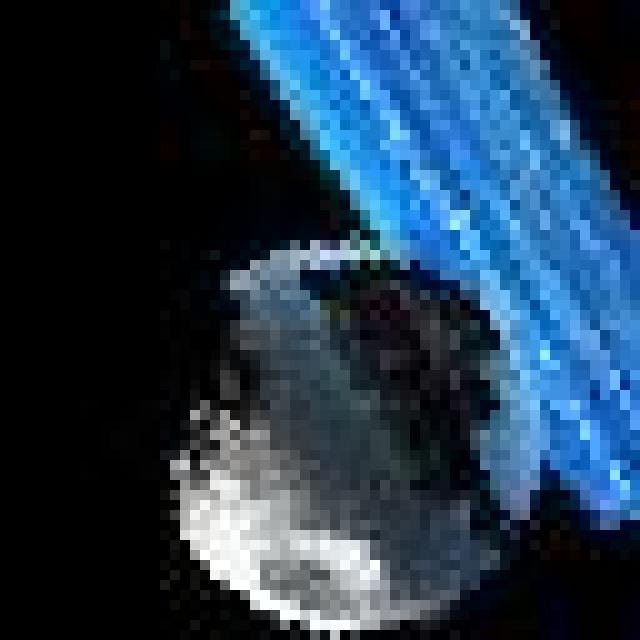Death Star: (145, 228, 528, 639)
